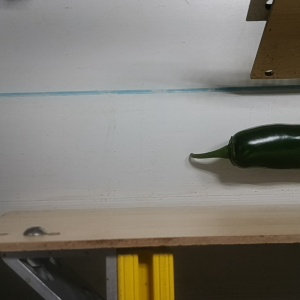Cut Point: (219, 129, 249, 169)
